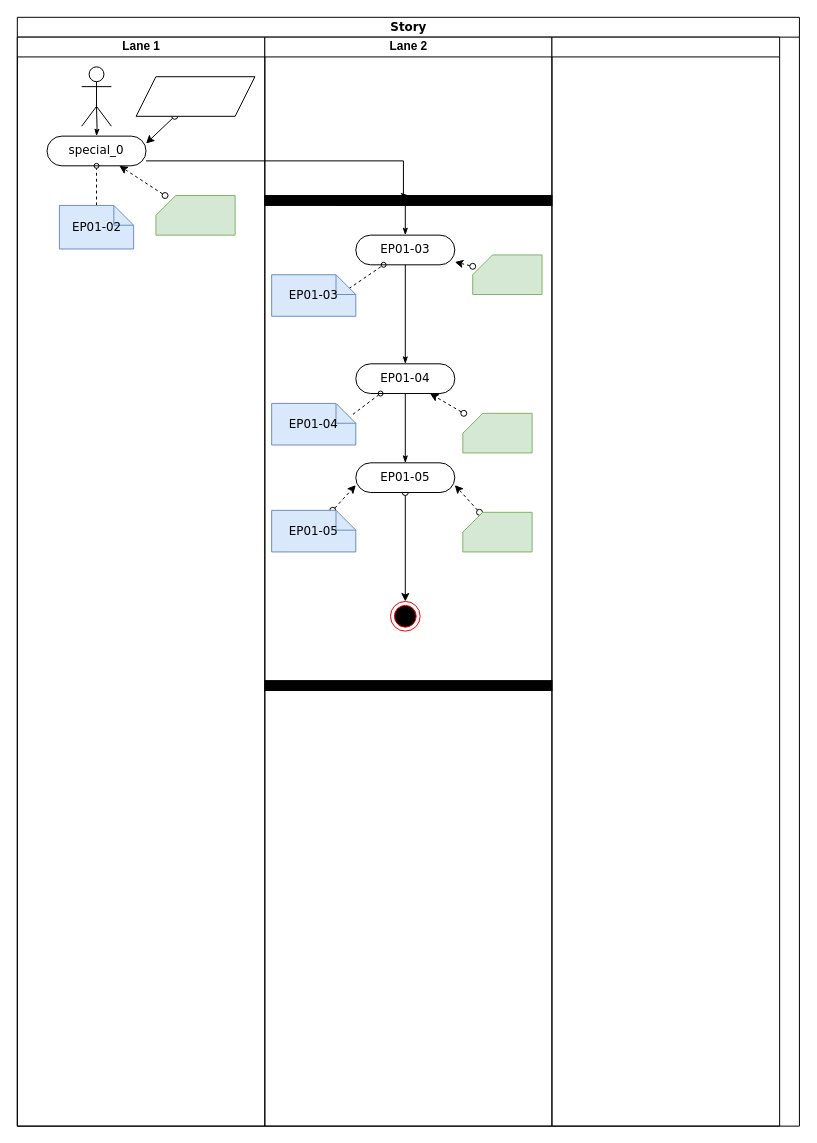
The diagram is 817 pixels wide and 1143 high, and some of its shapes have lost their labels. The shapes that lost their labels are listed below. From the top down, each one's centre as x and y in pixels, then its label:
At point (195, 96): "岛上码头".
At point (195, 215): "出生点".
At point (507, 274): "通缉令张贴牌前".
At point (497, 432): "检查站".
At point (497, 531): "吉普车上".
At point (665, 581): "Lane 3".
